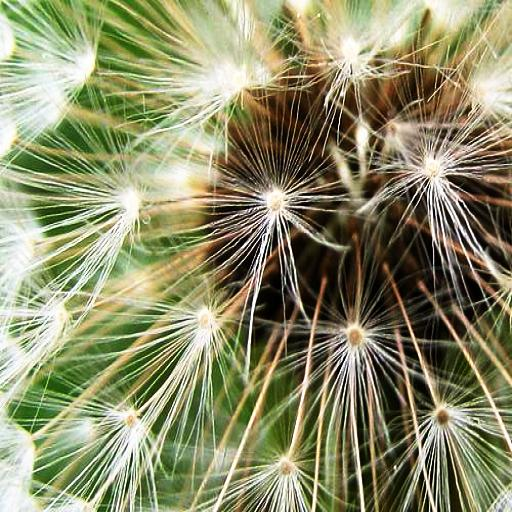dandelion: (4, 0, 512, 512)
